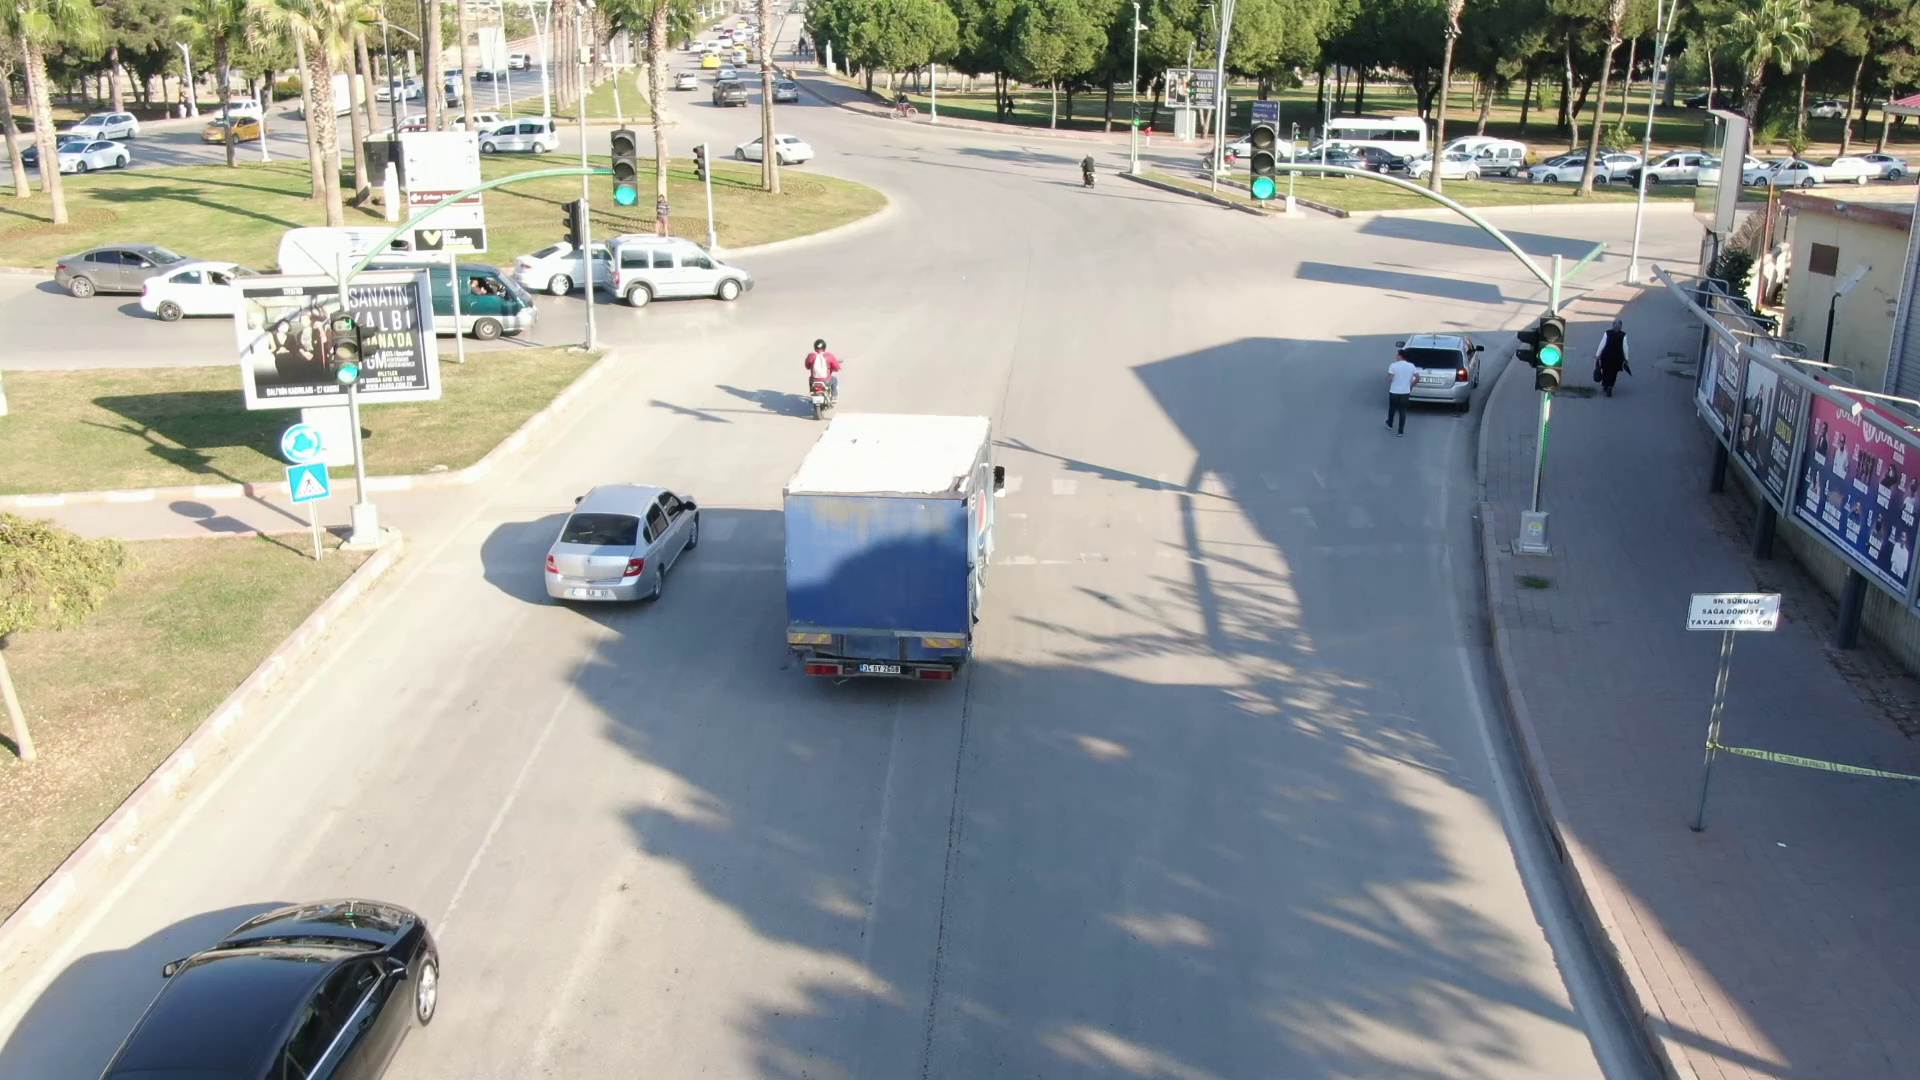car: (542, 462, 717, 613), (596, 228, 757, 309), (46, 233, 204, 305), (431, 257, 540, 350), (723, 126, 820, 171), (1522, 149, 1611, 197), (476, 112, 561, 159), (706, 80, 754, 111)
person: (1586, 309, 1643, 404), (1379, 339, 1417, 444), (785, 321, 848, 384)
